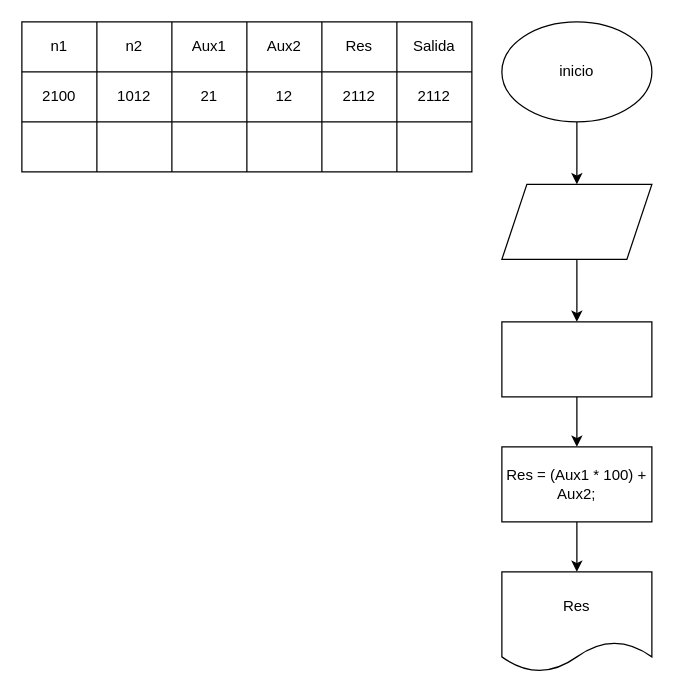
This 674x694 diagram has some shape labels left out. The shapes that lost their labels are listed below. From the top down, each one's centre as x and y in pixels, then its label:
At [576,221]: "n1; n2;".
At [576,359]: "int Aux1 = n1 / 100; Int Aux = n2 % 100".
